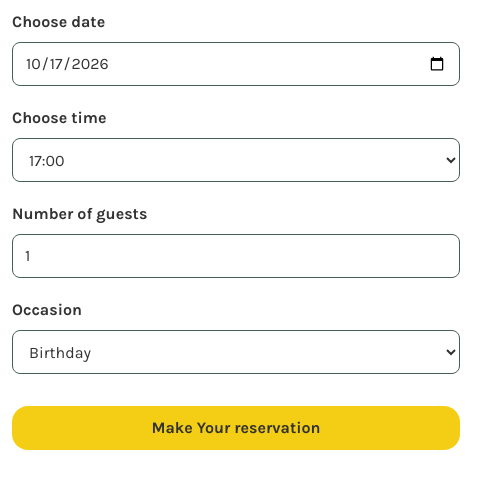
Test: submit button and submission › the button is enabled for a valid form and disabled for an invalid one
Expected: the button "Make Your reservation" is enabled, [12,406,460,450]
Replace the text in the number field labelled "Number of guests" with "0" at (236, 256), box [12,234,460,278]
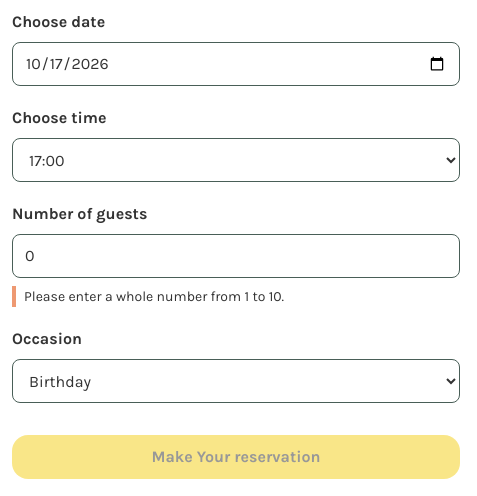
Now the button "Make Your reservation" is disabled, box [12,435,460,479]
Now the text "Please enter a whole number from 1 to 10." is shown, box [12,286,460,307]
Replace the text in the number field labelled "Number of guests" with "4" at (236, 256), box [12,234,460,278]
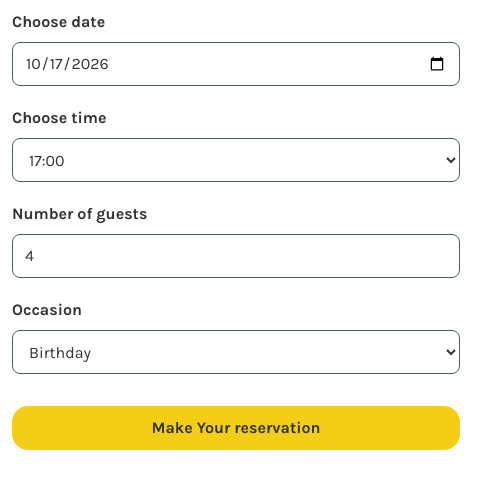
Now the button "Make Your reservation" is enabled, box [12,406,460,450]
